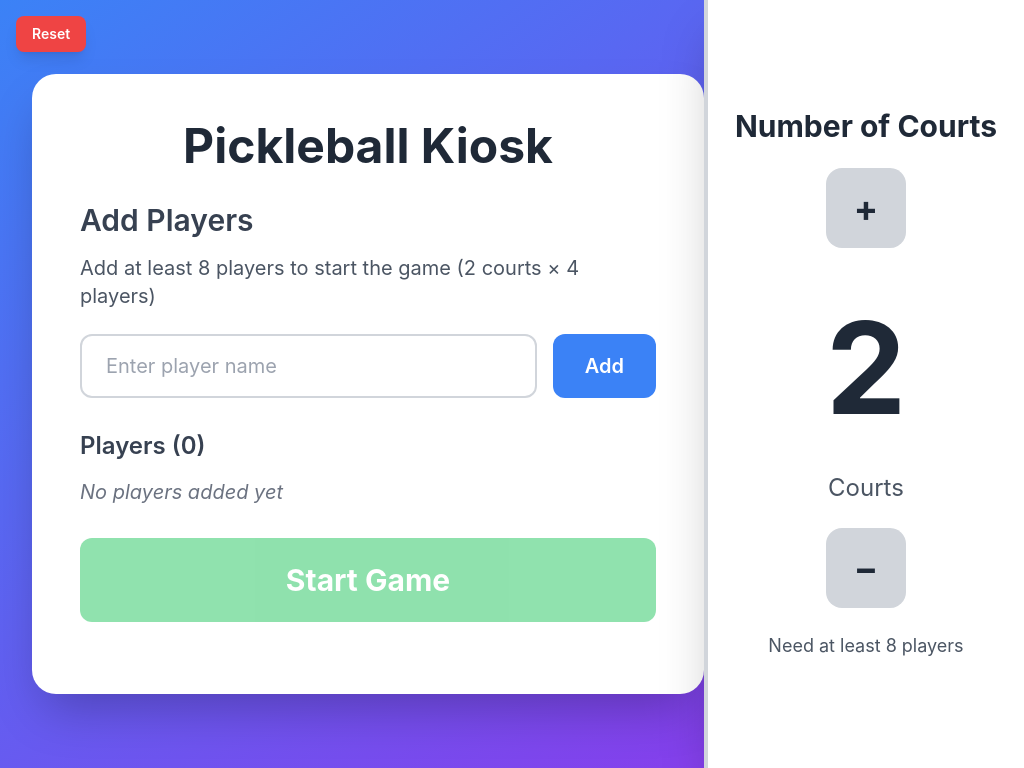
Test: App Integration Tests › Player Management › adds players to temporary list before session is created
Type "Alice" into the field with placeholder "Enter player name" at (308, 366), box left=80, top=334, right=537, bottom=398
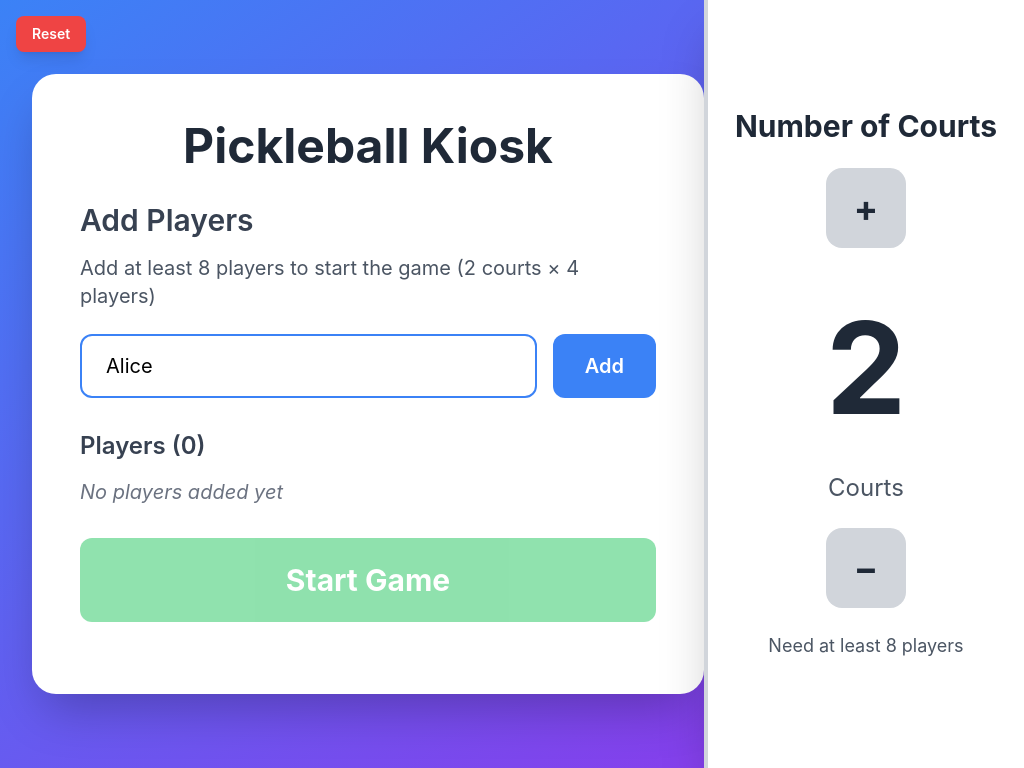
Click the button "Add" at (604, 366), box left=553, top=334, right=656, bottom=398
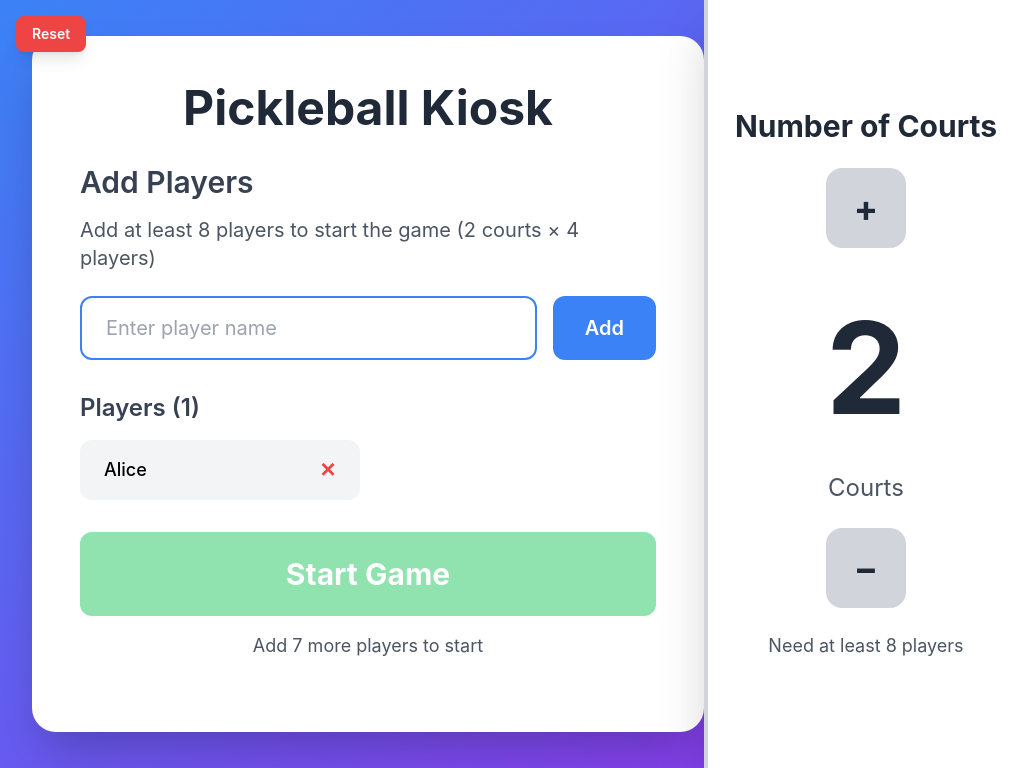
Now the text "Alice" is shown, box left=104, top=456, right=147, bottom=484
